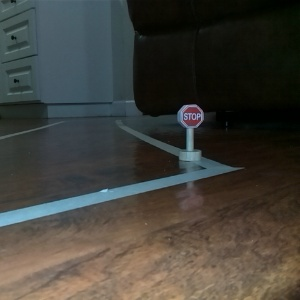stop sign: (175, 101, 205, 166)
